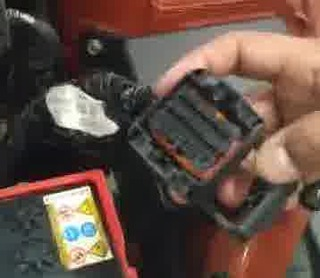connector: (126, 67, 267, 212)
